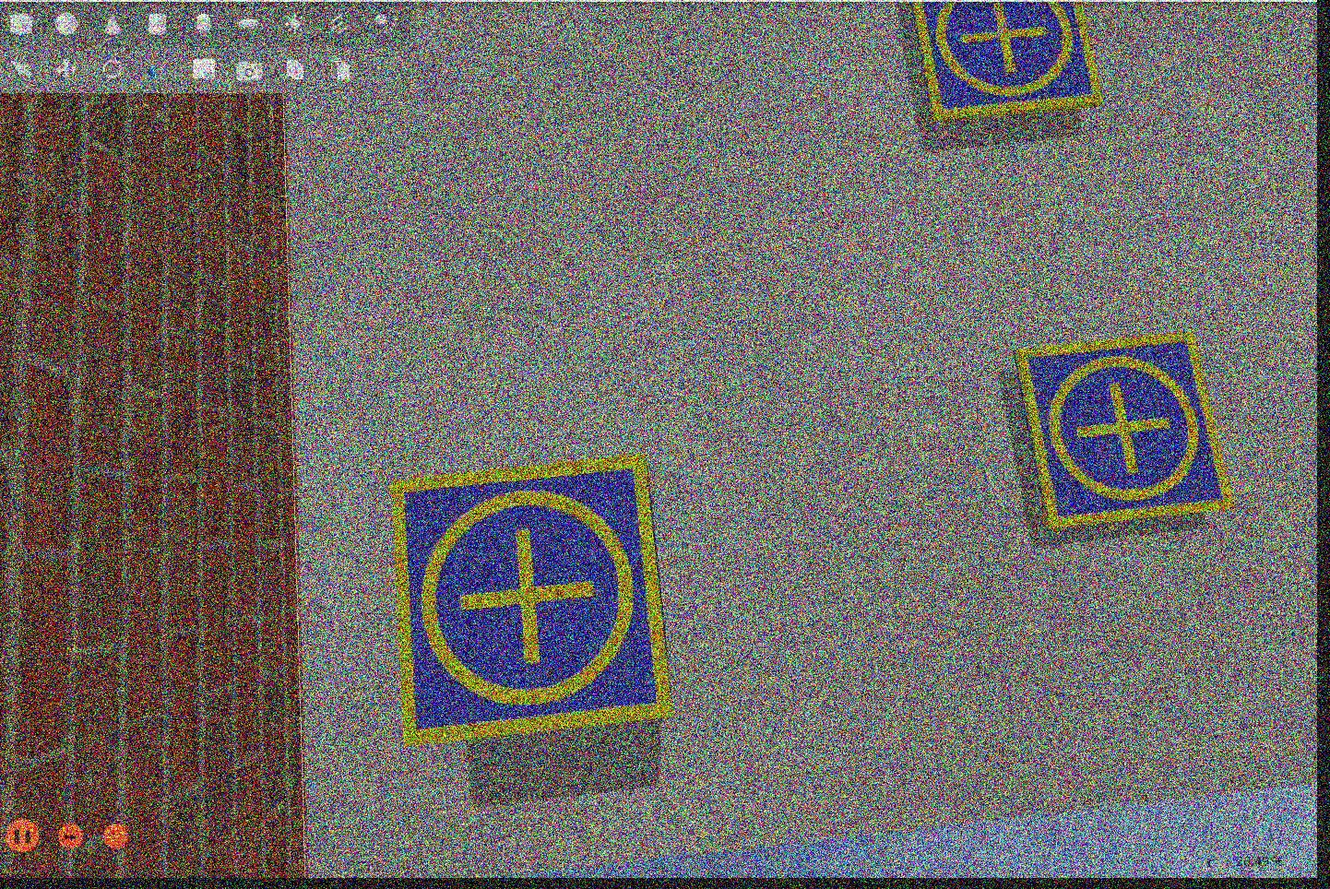small_base: (390, 450, 681, 753), (1015, 328, 1241, 539), (908, 1, 1109, 128)
